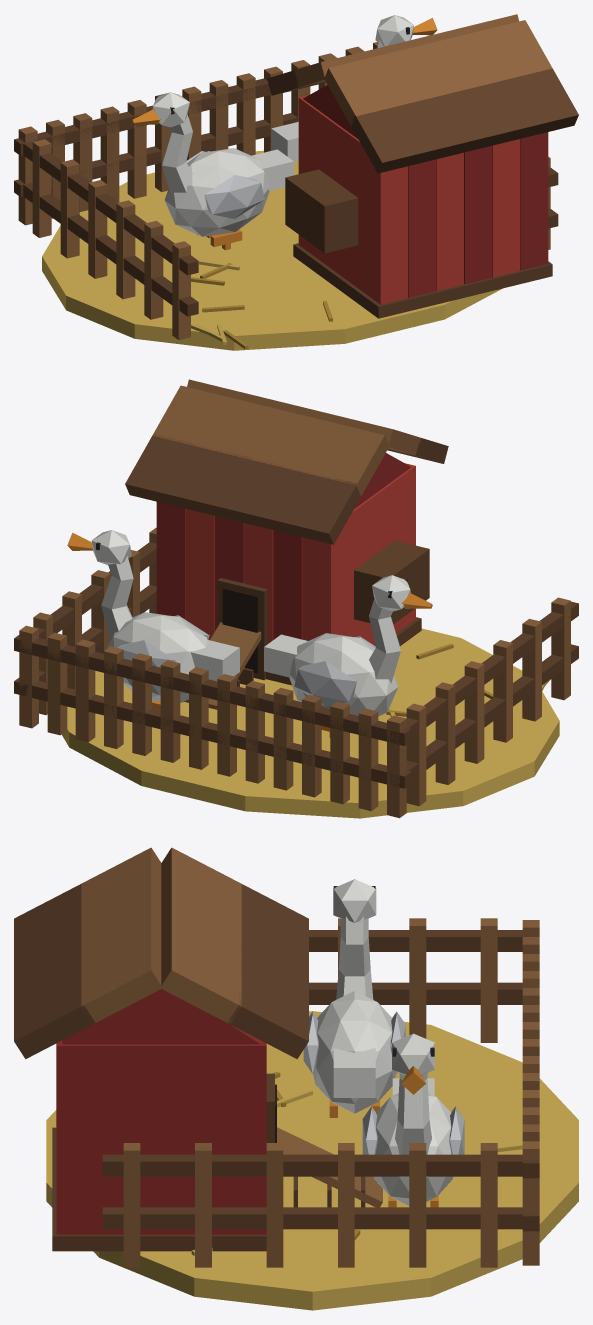
Rendered from Decor_Beanstalk_GooseCoop.fbx.
3 renders of one model, top to bottom at view 1: azimuth 30°, elevation 25°; view 2: azimuth 150°, elevation 25°; view 3: azimuth 270°, elevation 25°, orthographic. The views are drawn at different scales.
Parts seen in each view (by area): view 1: GooseCoop_Body; view 2: GooseCoop_Body; view 3: GooseCoop_Body.
Boxes of the visible parts, left/top/right/bottom form: GooseCoop_Body: left=14, top=14, right=578, bottom=350; GooseCoop_Body: left=14, top=379, right=578, bottom=818; GooseCoop_Body: left=14, top=847, right=578, bottom=1310.
Size of the model in its own units: 16 by 8.16 by 13.61.
